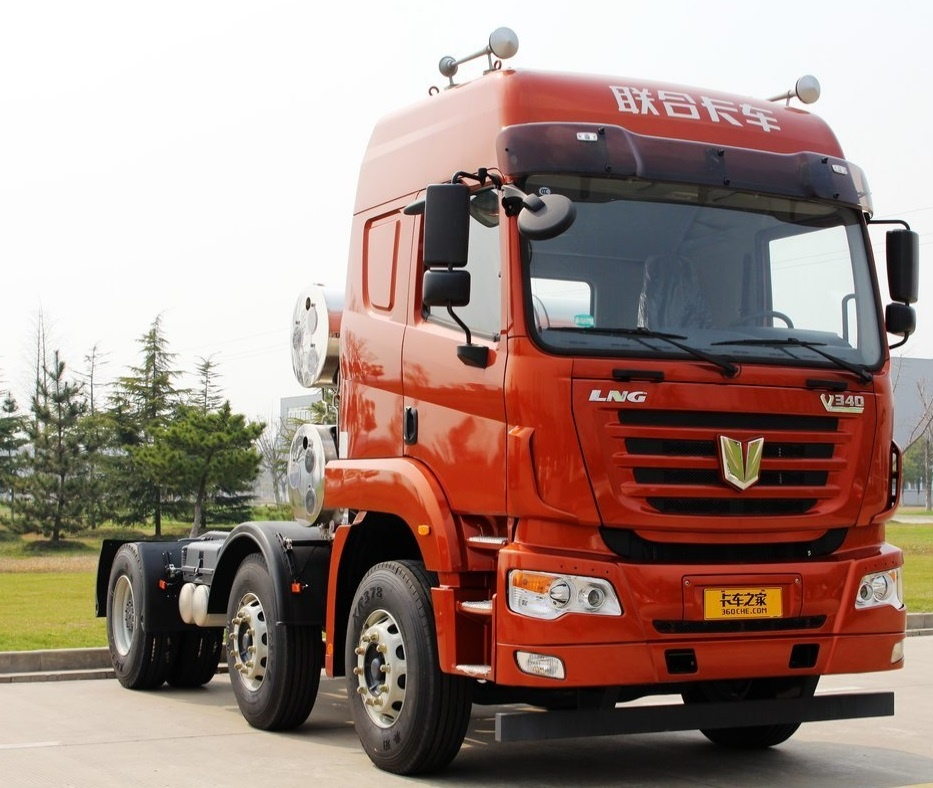heavy truck: (84, 45, 907, 763)
